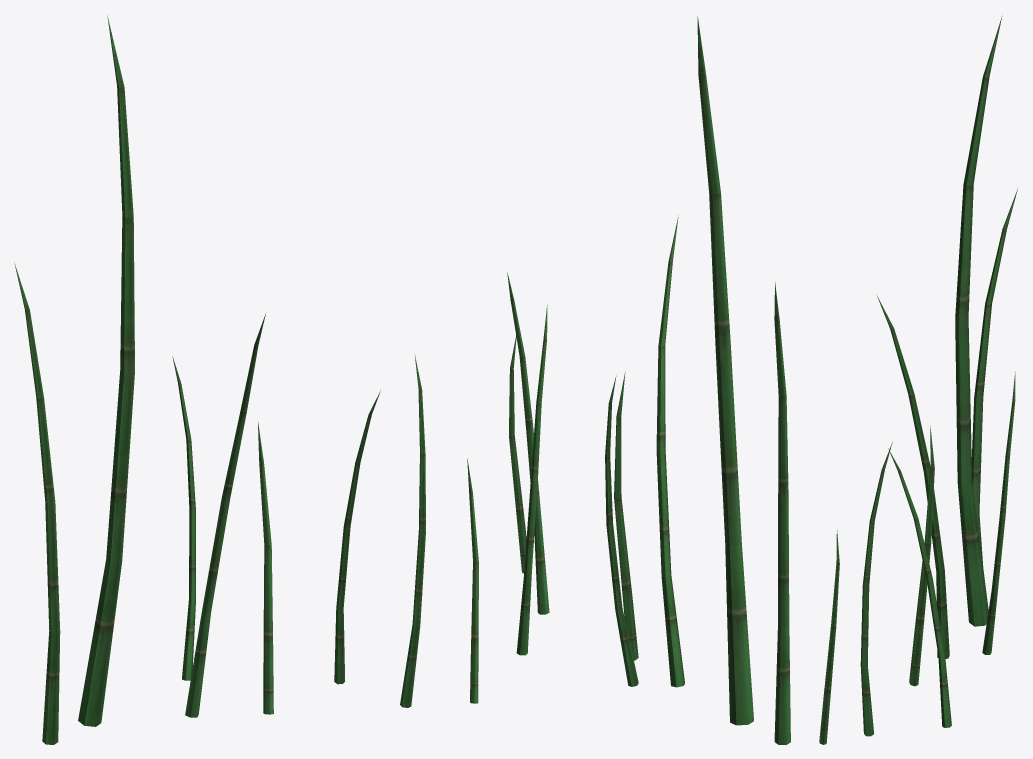
File: Area_13_43.fbx
3 views of the same model, side by side, from view 1: azimuth 30°, elevation 25°; view 2: azimuth 150°, elevation 25°; view 3: azimuth 270°, elevation 25° (orthographic). The views are drawn at different scales.
Visible parts, largest first — view 1: Area_13_43; view 2: Area_13_43; view 3: Area_13_43.
Boxes of the visible parts, x1,y1,x2,y2 form: Area_13_43: [14, 15, 478, 744]; Area_13_43: [507, 16, 790, 744]; Area_13_43: [819, 16, 1017, 744].
Bounding box in the file's own units: 950 × 1761 × 505.
